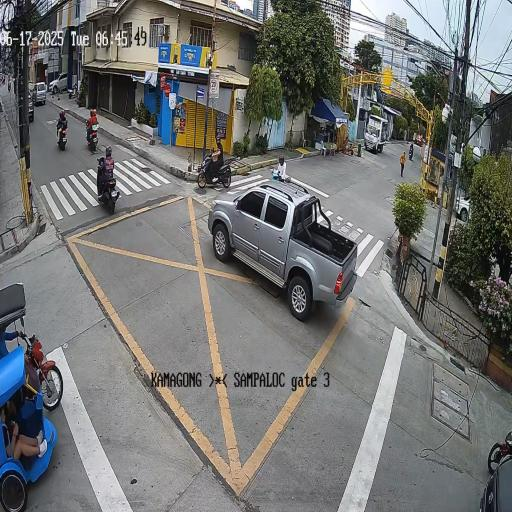Car: (199, 172, 368, 338)
Motor: (84, 138, 125, 217), (196, 134, 234, 186), (78, 103, 110, 148), (53, 110, 77, 160), (269, 149, 294, 188)
